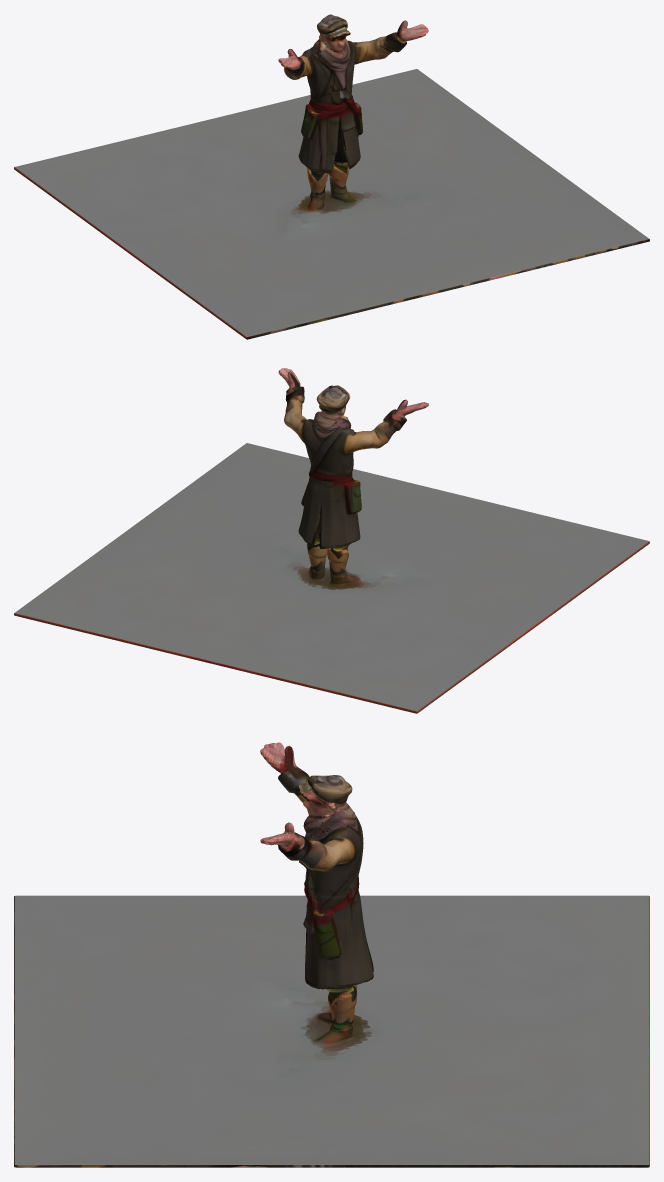
Rendered from villager_carter.glb.
The picture shows the model from 3 angles, top to bottom: view 1: azimuth 30°, elevation 25°; view 2: azimuth 150°, elevation 25°; view 3: azimuth 270°, elevation 25°; orthographic projection. The views are drawn at different scales.
Parts seen in each view (by area): view 1: textured_mesh.obj; view 2: textured_mesh.obj; view 3: textured_mesh.obj.
Boxes of the visible parts, x1,y1,x2,y2 form: textured_mesh.obj: (14,14,649,339); textured_mesh.obj: (14,368,649,713); textured_mesh.obj: (14,742,649,1167).
Size of the model in its own units: 1.99 by 0.9177 by 1.98.
Materials: 1 (1 with a texture image).
